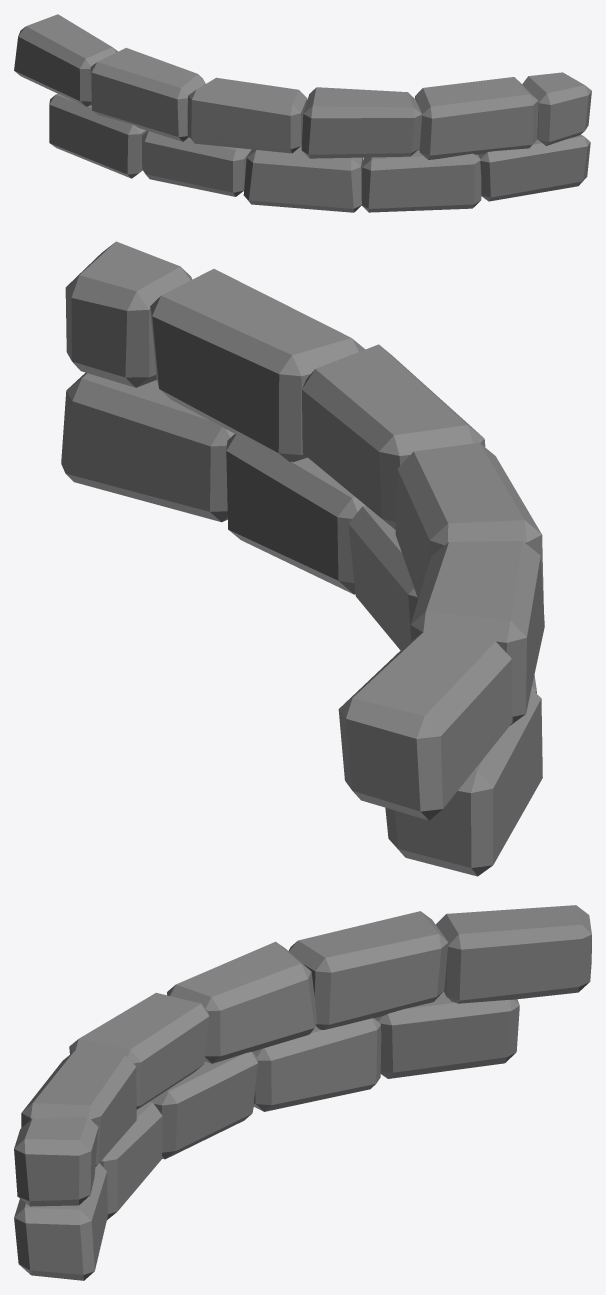
Rendered from BrickWall2mSection_01_T90_End_L.fbx.
The picture shows the model from 3 angles, top to bottom: view 1: azimuth 30°, elevation 25°; view 2: azimuth 150°, elevation 25°; view 3: azimuth 270°, elevation 25°; orthographic projection. The views are drawn at different scales.
Parts seen in each view (by area): view 1: BrickWall2mSection_01_T90_End_L; view 2: BrickWall2mSection_01_T90_End_L; view 3: BrickWall2mSection_01_T90_End_L.
Boxes of the visible parts, bbox=[...] form: BrickWall2mSection_01_T90_End_L: bbox=[14, 14, 591, 212]; BrickWall2mSection_01_T90_End_L: bbox=[61, 241, 544, 876]; BrickWall2mSection_01_T90_End_L: bbox=[14, 905, 591, 1280].
Bounding box in the file's own units: 153 × 41.78 × 150.
